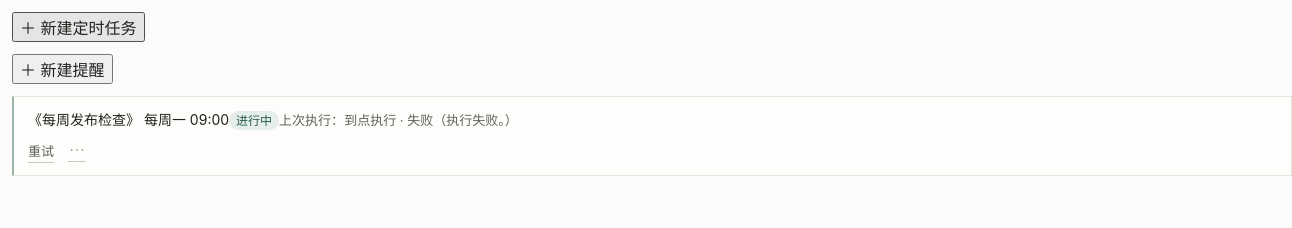
Test: retryable → 可点重试（item 4，只对任务） › 重试返回 409 时如实说清不能重跑，且不谎报成功
What coordinates should you click on to do the following:
click the button "重试"
I would click on:
 (41, 151)
Its box is [28,139,54,163].
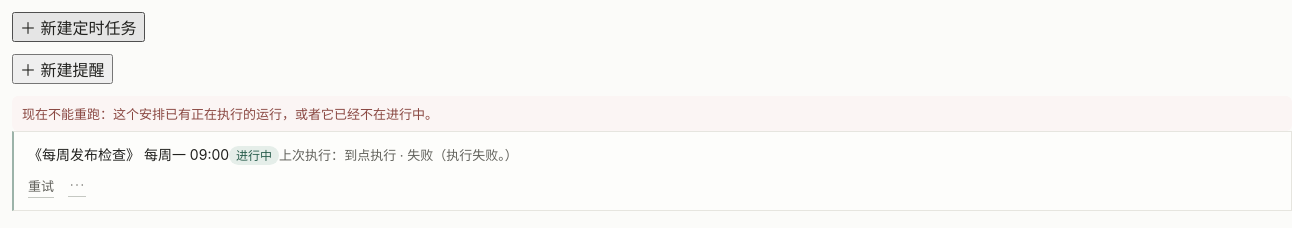
Result: the message "现在不能重跑：这个安排已有正在执行的运行，或者它已经不在进行中。" is shown at [12,96,1291,131]
